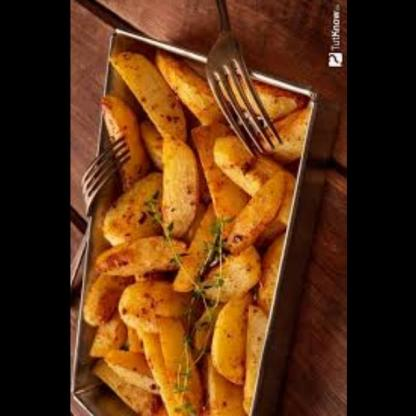potato: (76, 45, 315, 416)
